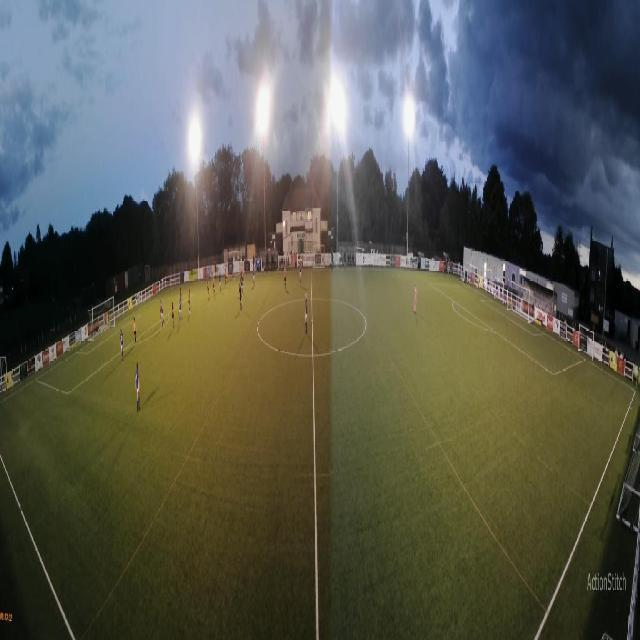ball: (234, 278, 235, 282)
player: (135, 362, 141, 412), (120, 328, 124, 362), (305, 292, 308, 334), (413, 283, 417, 314), (133, 317, 137, 346), (171, 301, 175, 329), (161, 301, 165, 328), (239, 282, 242, 311), (179, 296, 182, 324), (284, 264, 287, 291), (240, 275, 244, 295), (188, 288, 191, 314), (299, 259, 302, 285), (224, 267, 228, 286), (107, 311, 110, 333), (253, 265, 256, 287), (212, 275, 215, 296), (219, 272, 222, 292), (206, 278, 209, 297), (160, 298, 162, 323), (232, 263, 235, 279), (242, 266, 244, 287), (180, 288, 182, 298)
